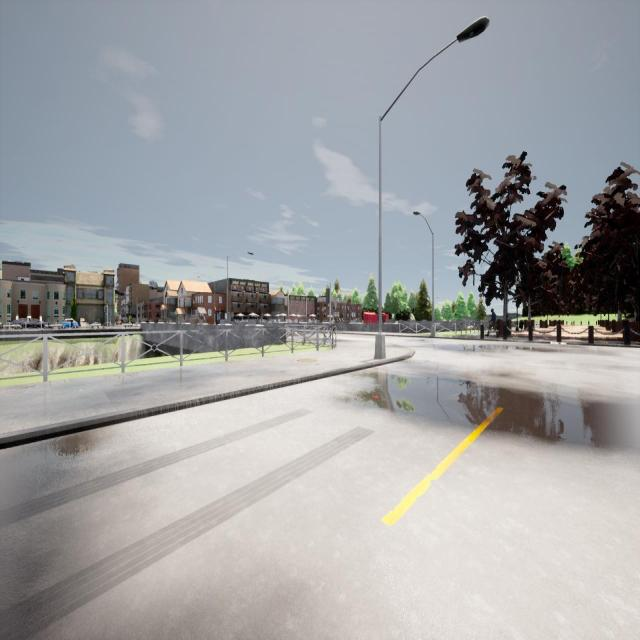Pedestrian: (485, 308, 497, 337)
Vehicle: (12, 317, 44, 328), (62, 318, 78, 328)
traffic_light: (326, 288, 330, 304), (104, 306, 107, 314), (214, 306, 216, 314)
